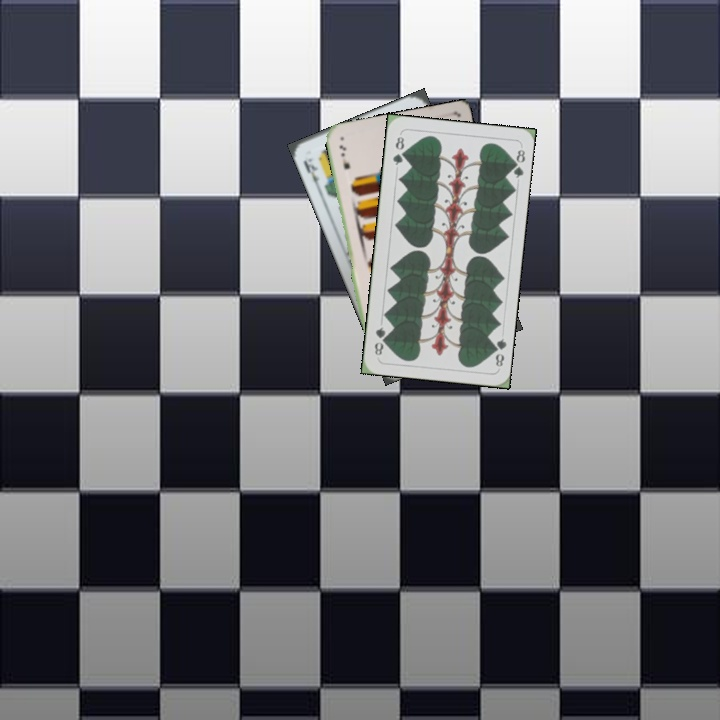E7: (335, 141, 352, 172)
EK: (299, 154, 323, 192)
G8: (488, 334, 509, 369), (388, 130, 407, 167)
